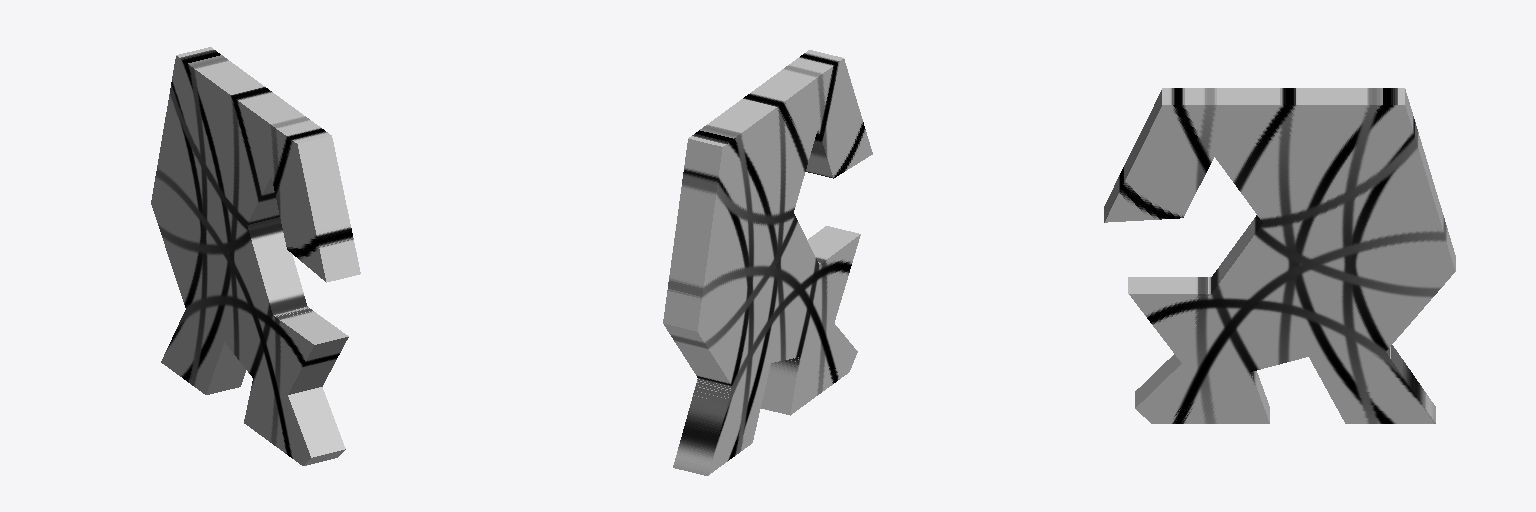
3 renders of one model, left to right at view 1: azimuth 30°, elevation 25°; view 2: azimuth 150°, elevation 25°; view 3: azimuth 270°, elevation 25°, orthographic.
Size of the model in its own units: 0.2277 by 2 by 2.
Materials: 1 (1 with a texture image).